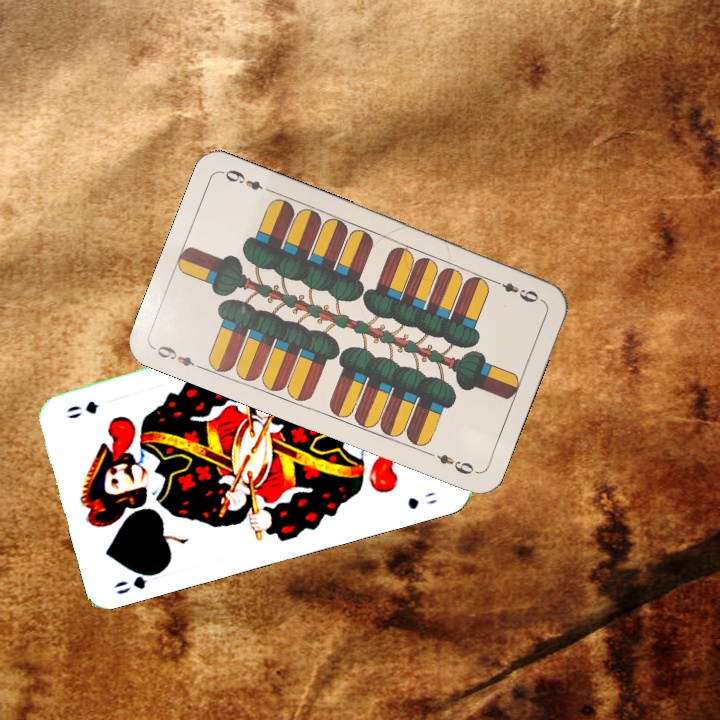E9: (150, 341, 207, 373), (488, 275, 541, 306)
GO: (110, 565, 167, 597)
